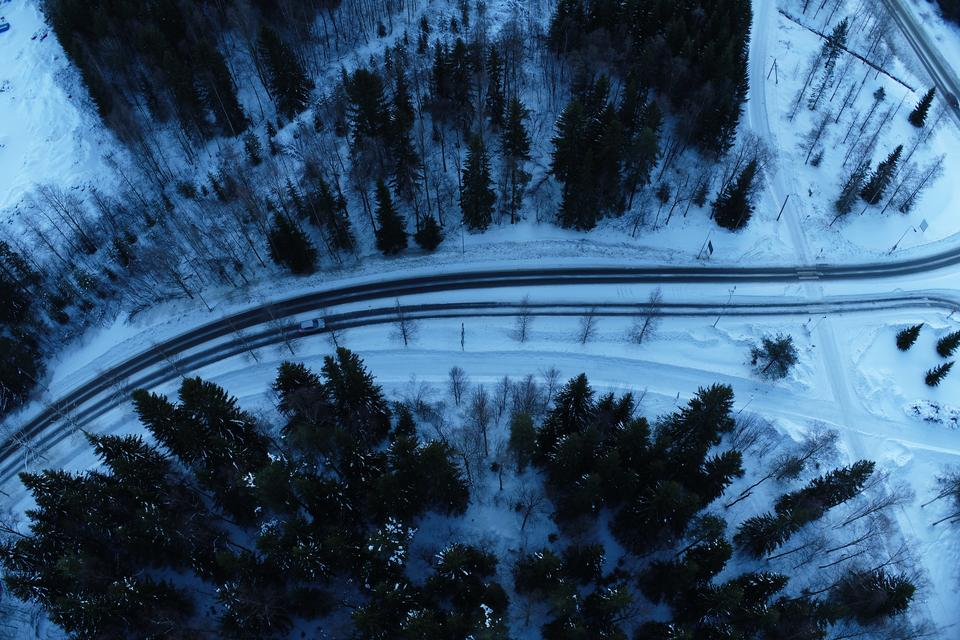intersection: (755, 233, 862, 341)
